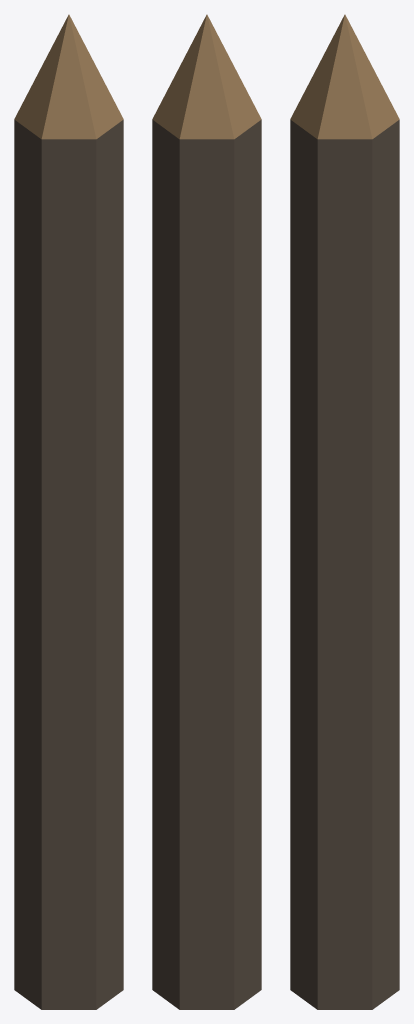
File: Wooden_Spear_02.fbx
3 renders of one model, left to right at view 1: azimuth 90°, elevation 25°; view 2: azimuth 150°, elevation 25°; view 3: azimuth 270°, elevation 25°, orthographic.
Parts seen in each view (by area): view 1: Wooden_Spear; view 2: Wooden_Spear; view 3: Wooden_Spear.
Boxes of the visible parts, x1,y1,x2,y2 form: Wooden_Spear: (14, 14, 123, 1009); Wooden_Spear: (152, 14, 261, 1009); Wooden_Spear: (290, 14, 399, 1009).
Size of the model in its own units: 6.4 by 72.76 by 7.41.
